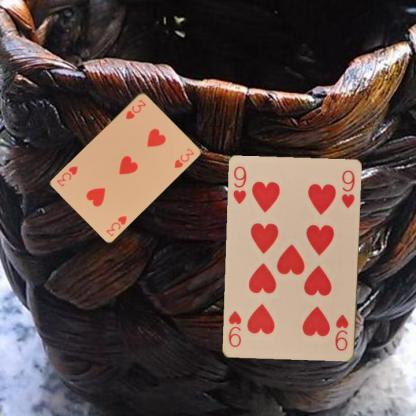3h: (103, 213, 128, 238), (123, 97, 147, 120)
9h: (230, 164, 248, 206), (332, 312, 350, 352)
